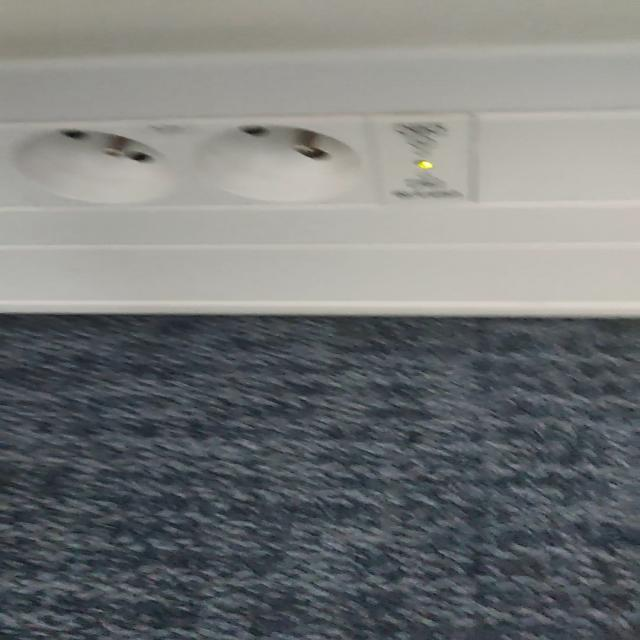house plug: (161, 115, 382, 211), (1, 116, 184, 208)
